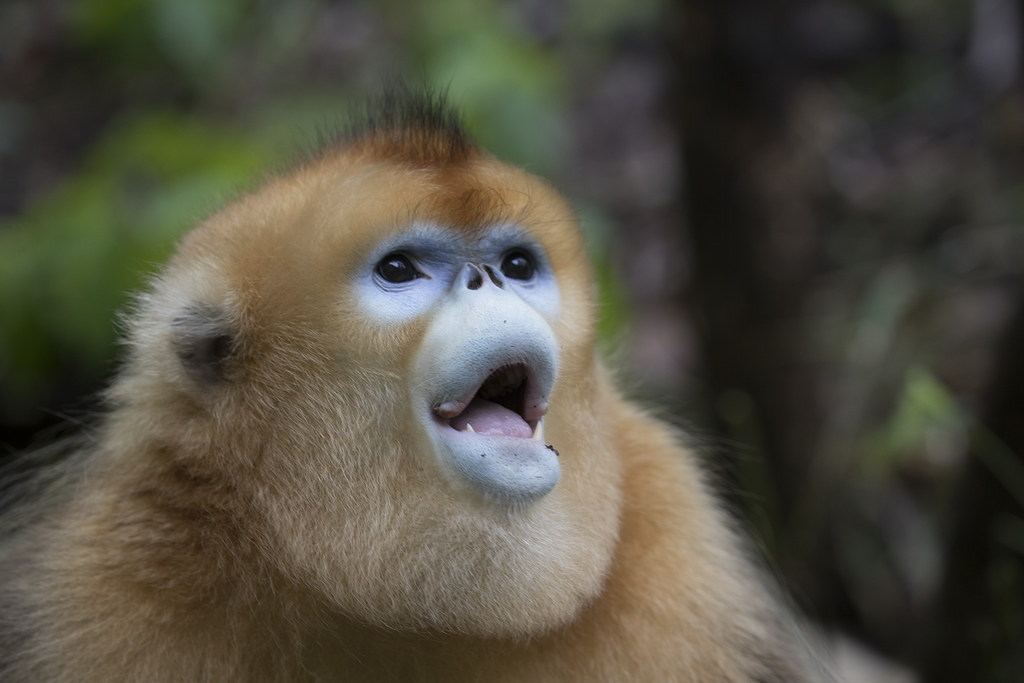GoldenSnub-Nosed: (116, 140, 717, 678)
